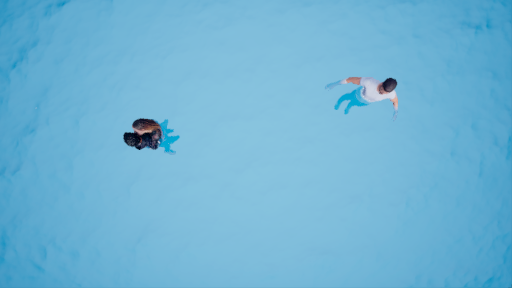person: (322, 73, 403, 123), (121, 114, 179, 156)
